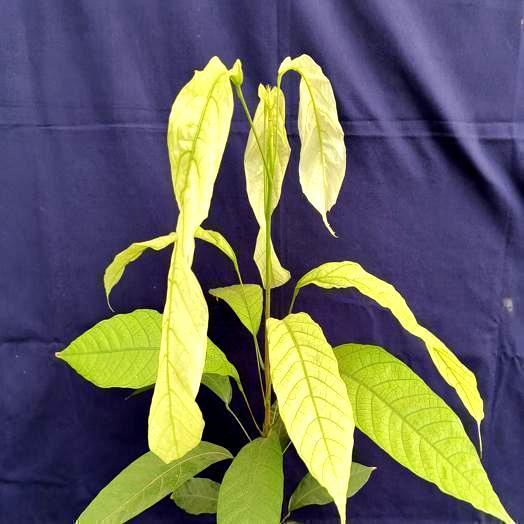Iron: (148, 57, 233, 461), (292, 261, 483, 430), (334, 344, 512, 523), (267, 313, 354, 523), (75, 441, 232, 523), (279, 55, 344, 210), (57, 309, 161, 386), (217, 436, 283, 523), (104, 232, 176, 311), (254, 86, 289, 213), (245, 131, 265, 286), (209, 284, 262, 338), (171, 477, 218, 514), (196, 228, 238, 269), (288, 473, 332, 511), (348, 462, 376, 497), (270, 245, 289, 286)
